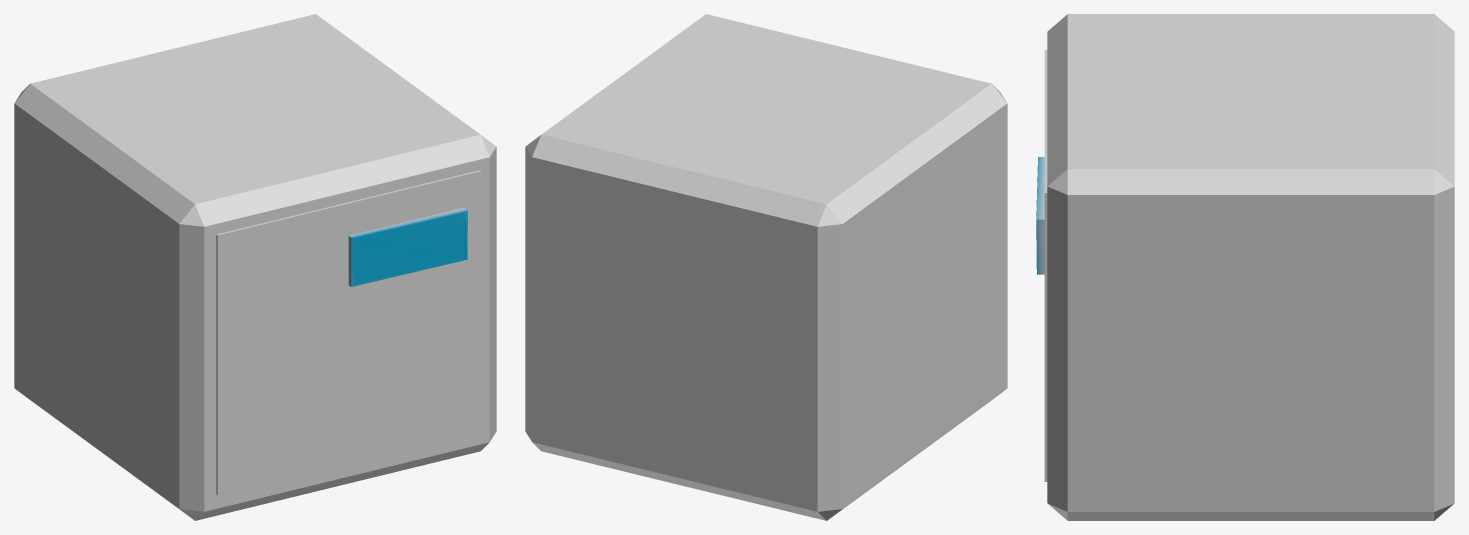
The model's file is EngineerRoom_Safe.fbx.
3 views of the same model, side by side, from view 1: azimuth 30°, elevation 25°; view 2: azimuth 150°, elevation 25°; view 3: azimuth 270°, elevation 25° (orthographic). The views are drawn at different scales.
Parts seen in each view (by area): view 1: Cube.031; view 2: Cube.031; view 3: Cube.031.
Part boxes in pixels (x1=…): Cube.031: x1=14, y1=14, x2=496, y2=520; Cube.031: x1=525, y1=14, x2=1007, y2=520; Cube.031: x1=1036, y1=14, x2=1454, y2=520.
Size of the model in its own units: 73.51 by 70.12 by 75.53.
